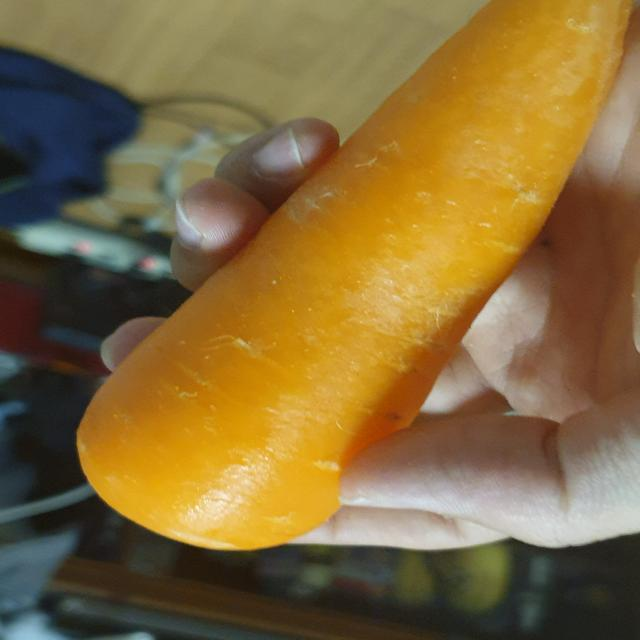Carrot: (60, 0, 640, 561)
